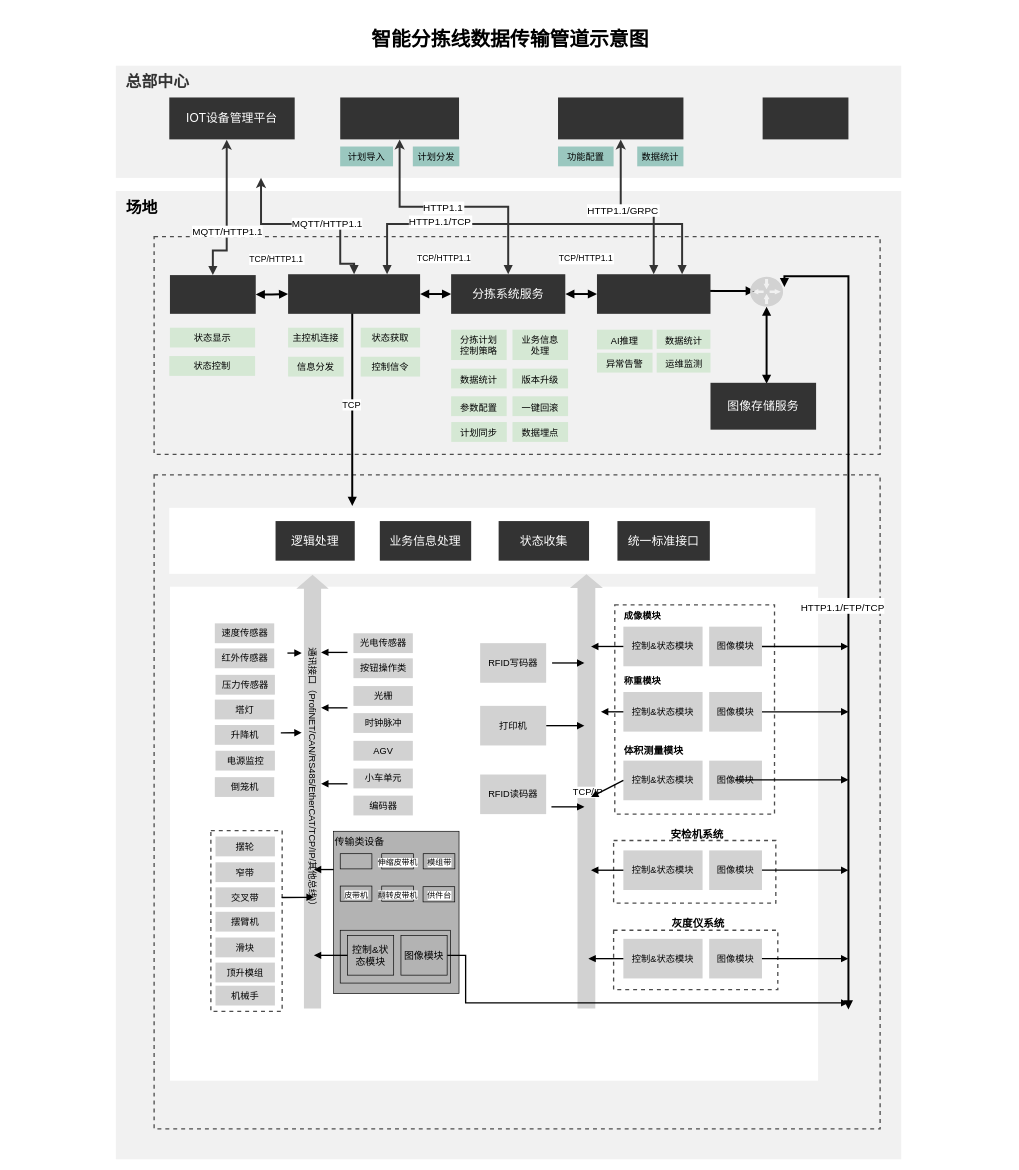
The diagram is 1019 pixels wide and 1170 high, and some of its shapes have lost their labels. Here are the shapes that lost their labels. From the top down, the box of each, then its label:
(340, 97, 459, 139): 分拣系统总部平台
(558, 97, 683, 139): 业务系统平台
(762, 97, 848, 139): 其他系统平台
(170, 275, 255, 314): SCADA服务
(288, 274, 420, 314): 主控设备管理服务
(597, 274, 710, 314): AI推理服务
(750, 277, 783, 306): 存储网关
(153, 236, 880, 455): 场地机房
(169, 508, 815, 574): 主控系统
(614, 604, 775, 814): DWS系统
(153, 474, 880, 1129): 场地分拣线
(170, 586, 818, 1080): IT/OT设备
(340, 853, 372, 869): 滚筒机
(210, 830, 282, 1012): 分拣类设备
(340, 930, 451, 983): 单件分离设备
